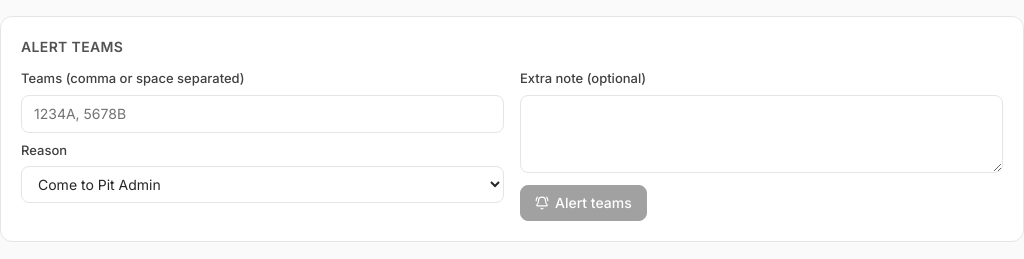
Scenario: TeamAlertCard › disables send until teams are entered and custom has a message
This screenshot has width=1024, height=259.
Expected: the button "Alert teams" is disabled, 520,184 -> 647,220
Type "1234A" into the field named "Teams to alert" at (262, 114), box 21,94 -> 504,132
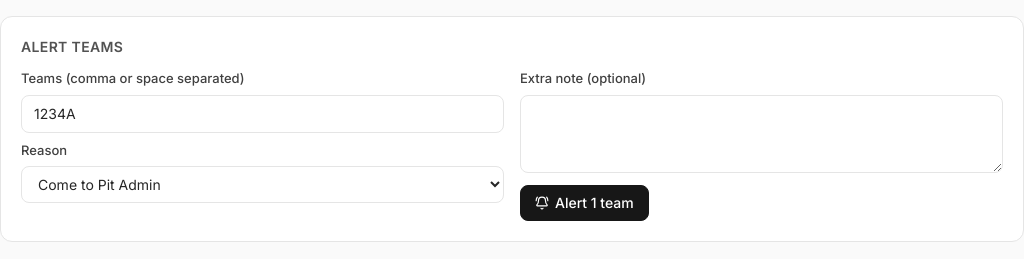
Now the button "Alert 1 team" is enabled, box 520,184 -> 649,220
Select "Custom message" in the dropdown named "Alert reason" at (262, 184), box 21,166 -> 504,203
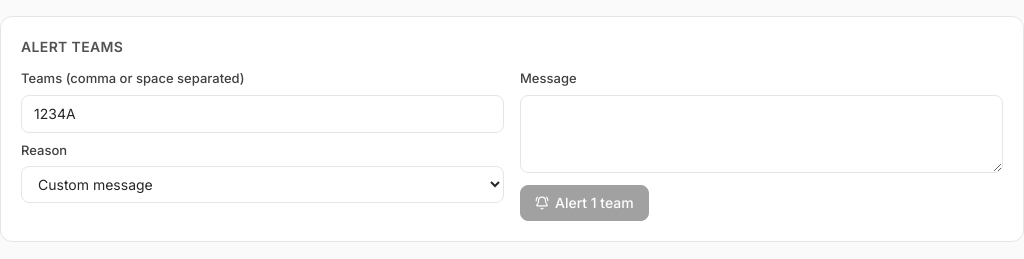
Now the button "Alert 1 team" is disabled, box 520,184 -> 649,220
Type "Hi" into the text box named "Alert message" at (762, 134), box 520,94 -> 1003,172
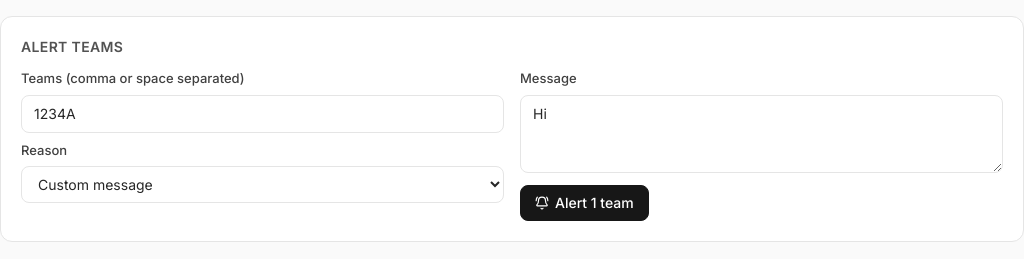
Now the button "Alert 1 team" is enabled, box 520,184 -> 649,220
